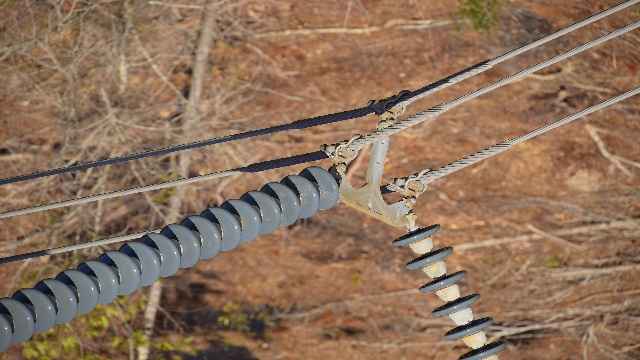insulator_unspecified: (0, 166, 340, 349), (392, 224, 505, 359)
pollution_flashover_local: (296, 179, 311, 197), (276, 212, 290, 228), (323, 188, 336, 202)
